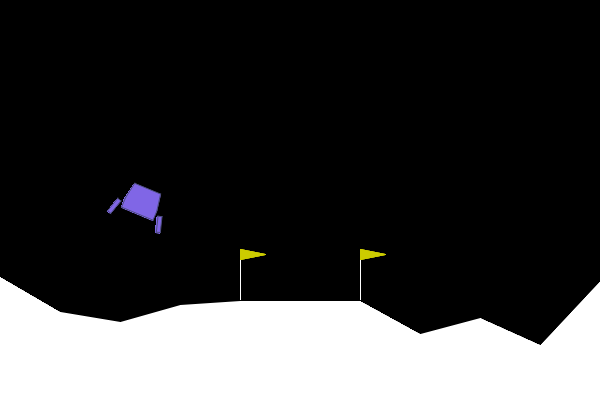lander: (105, 176, 176, 236)
